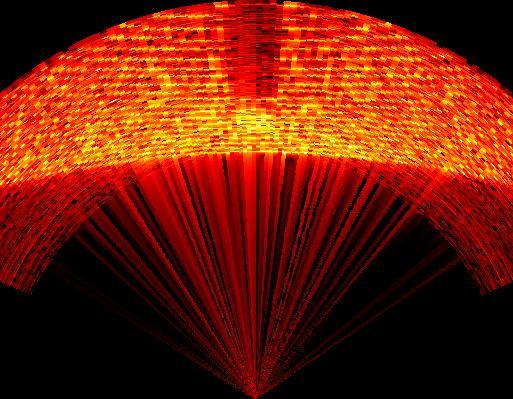box_crate: (221, 3, 283, 101)
